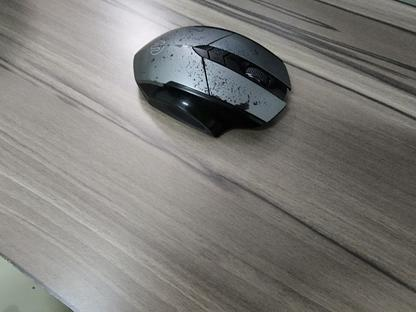mouse: (132, 24, 292, 139)
